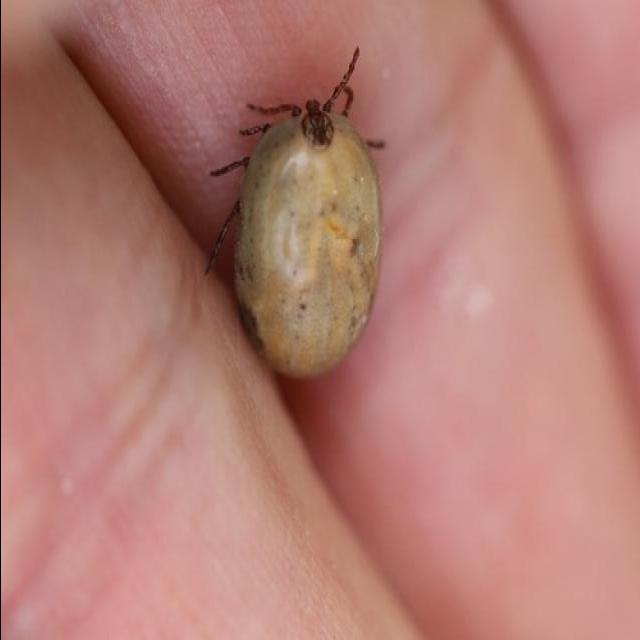Dermacentor Reticulatus-F-Fed: (204, 46, 385, 379)
